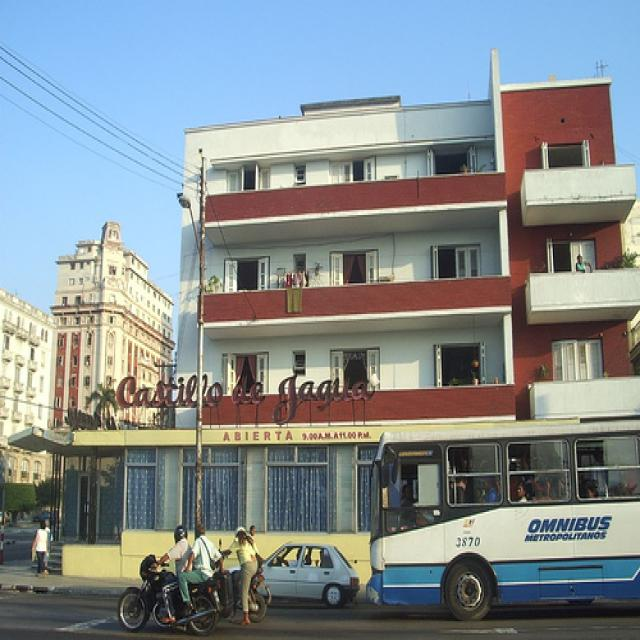light_vehicle: (230, 540, 361, 610)
